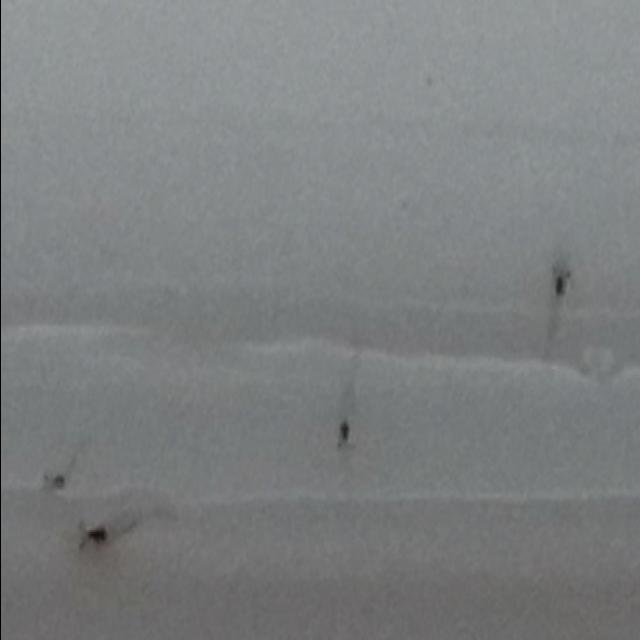shrimp-seed: (333, 415, 359, 457), (78, 521, 110, 555), (548, 266, 576, 302), (41, 466, 68, 498)
